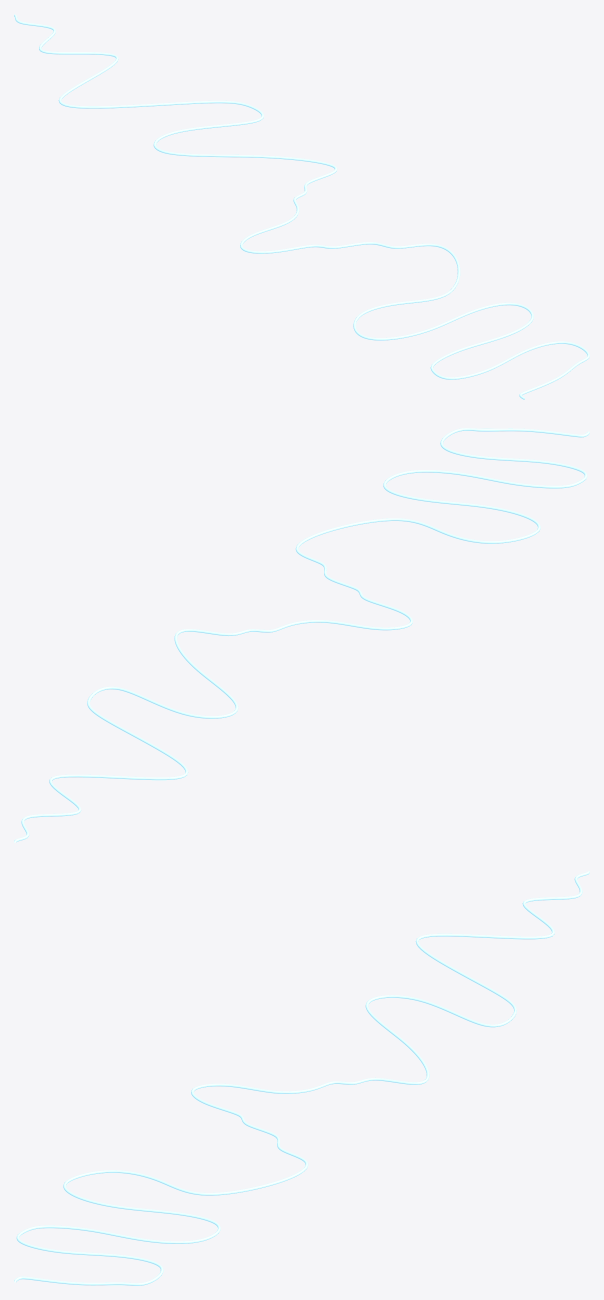
File: path.glb
The picture shows the model from 3 angles, top to bottom: view 1: azimuth 30°, elevation 25°; view 2: azimuth 150°, elevation 25°; view 3: azimuth 330°, elevation 25°; orthographic projection. The views are drawn at different scales.
Visible parts, largest first — view 1: NurbsCurve.001; view 2: NurbsCurve.001; view 3: NurbsCurve.001.
Part boxes in pixels (x1,y1,x2,y2): NurbsCurve.001: [14, 14, 589, 399]; NurbsCurve.001: [14, 428, 589, 842]; NurbsCurve.001: [14, 871, 589, 1285].
Bounding box in the file's own units: 33.88 × 0.5 × 196.
